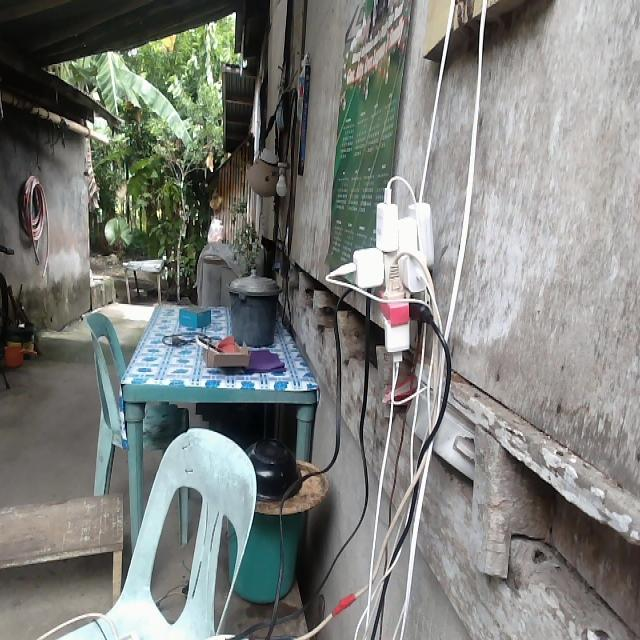-: (344, 183, 437, 365)
